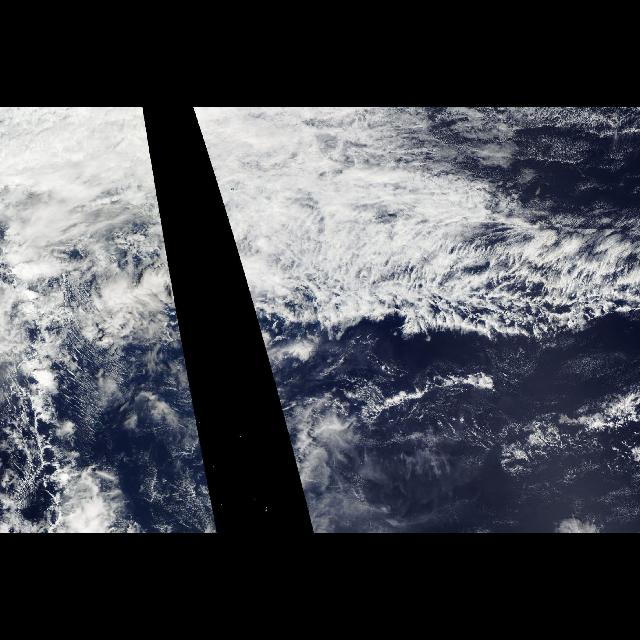Sugar: (306, 419, 550, 533), (441, 110, 637, 226)
